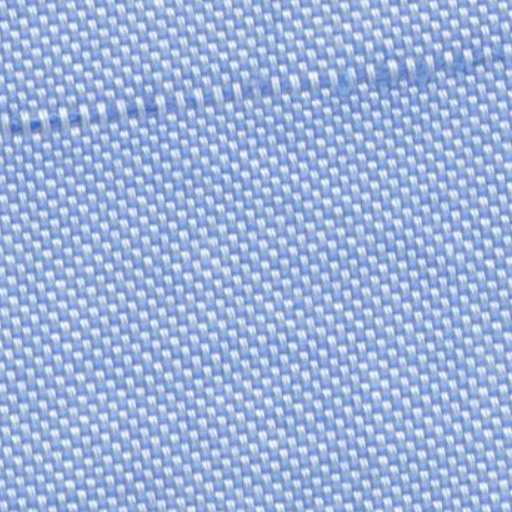DaiSha: (4, 46, 508, 146)
